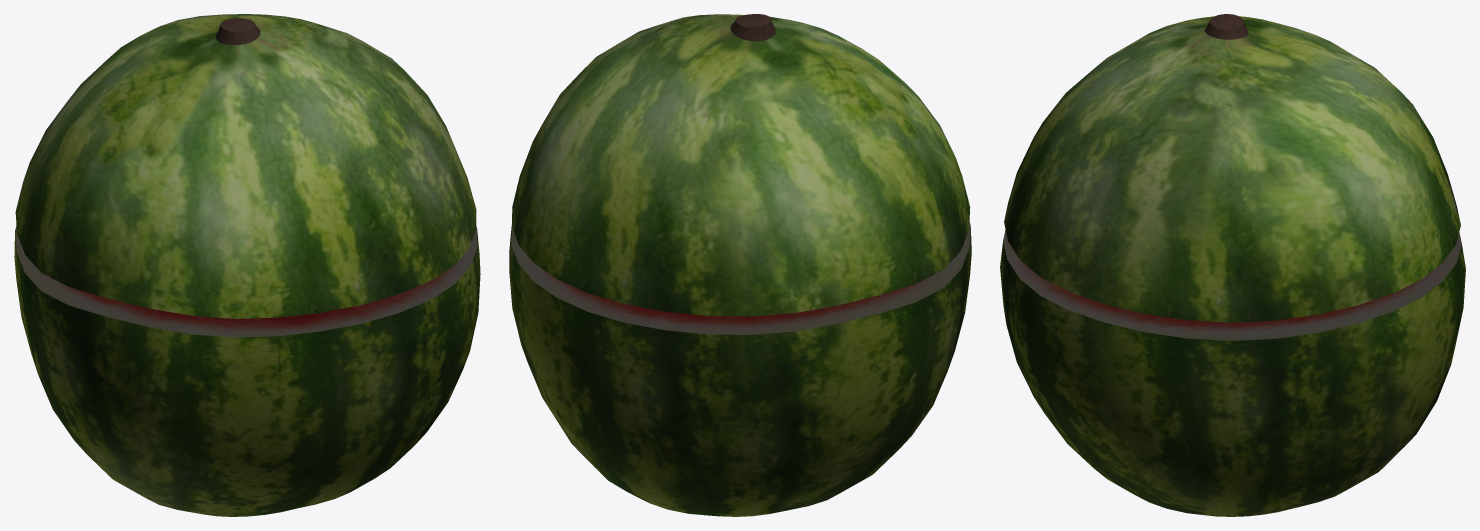
The model's file is arbuzSliced.fbx.
The picture shows the model from 3 angles, left to right: view 1: azimuth 30°, elevation 25°; view 2: azimuth 150°, elevation 25°; view 3: azimuth 270°, elevation 25°; orthographic projection.
Parts seen in each view (by area): view 1: Arbuz_przekroj.001, Arbuz_przekroj.002; view 2: Arbuz_przekroj.001, Arbuz_przekroj.002; view 3: Arbuz_przekroj.001, Arbuz_przekroj.002.
Part boxes in pixels (x1=…): Arbuz_przekroj.001: x1=15, y1=14, x2=476, y2=318; Arbuz_przekroj.002: x1=14, y1=226, x2=480, y2=516; Arbuz_przekroj.001: x1=512, y1=14, x2=970, y2=316; Arbuz_przekroj.002: x1=509, y1=222, x2=971, y2=516; Arbuz_przekroj.001: x1=1004, y1=14, x2=1460, y2=322; Arbuz_przekroj.002: x1=1000, y1=229, x2=1465, y2=516.
Size of the model in its own units: 35.5 by 39.5 by 35.4.
